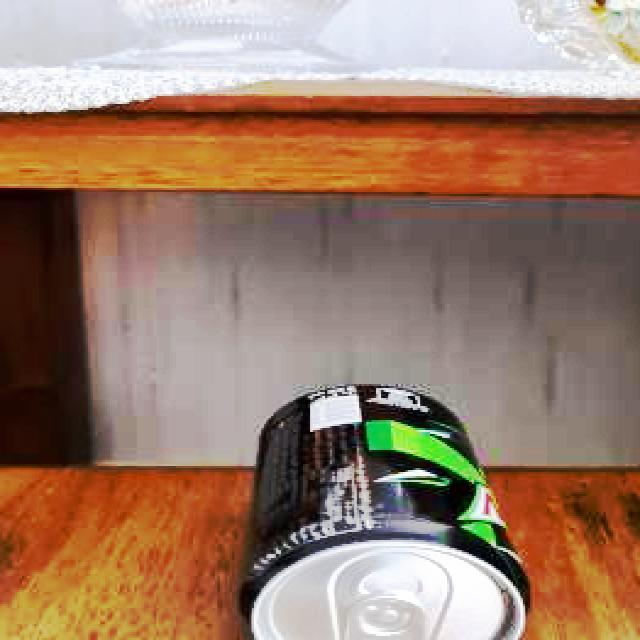Lata: (245, 385, 529, 640)
